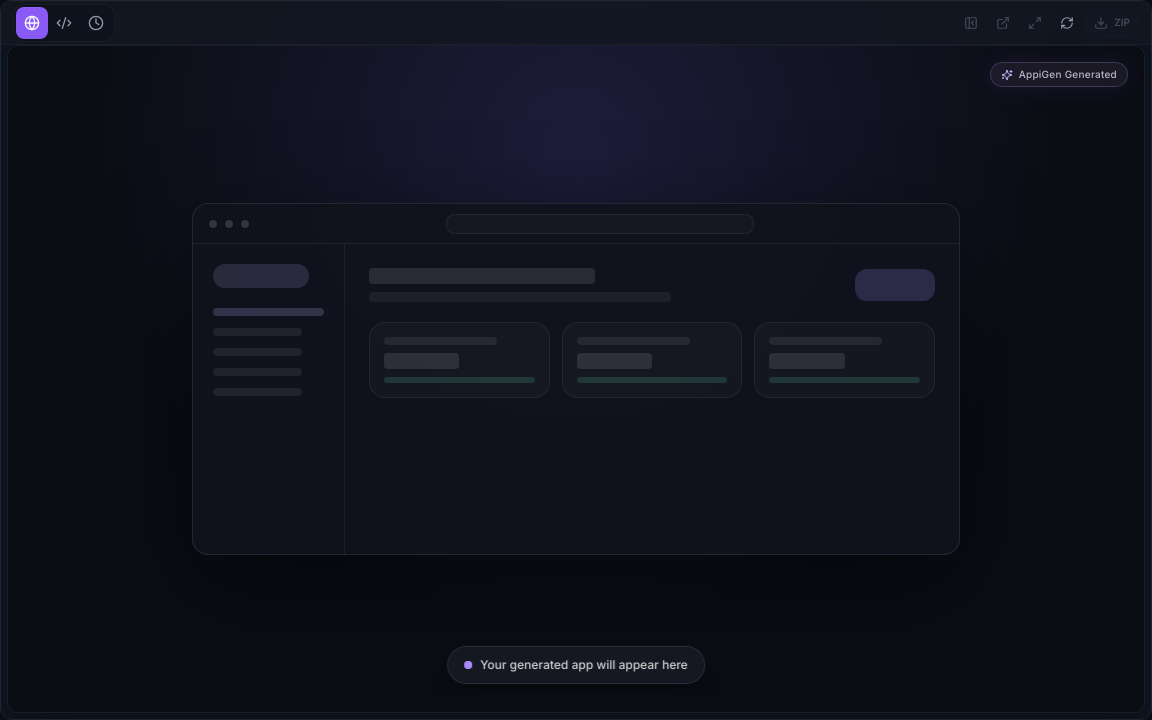
Scenario: PreviewPanel › opens versions and restores/deletes through the versions area
This screenshot has width=1152, height=720.
Later steps or results of the test are not shown.
Click the button named "Versions (1)": (96, 22) top-left (80, 6), bottom-right (112, 38)
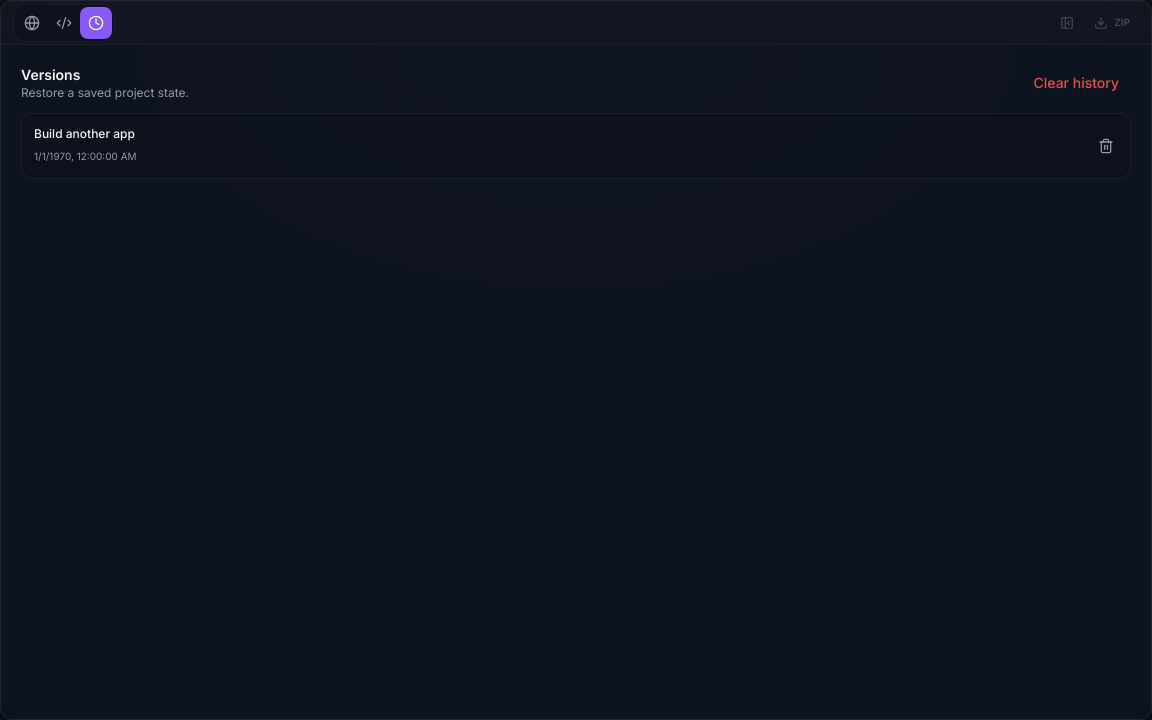
expect the text "Build another app" is shown: met, box top-left (34, 126), bottom-right (135, 141)
